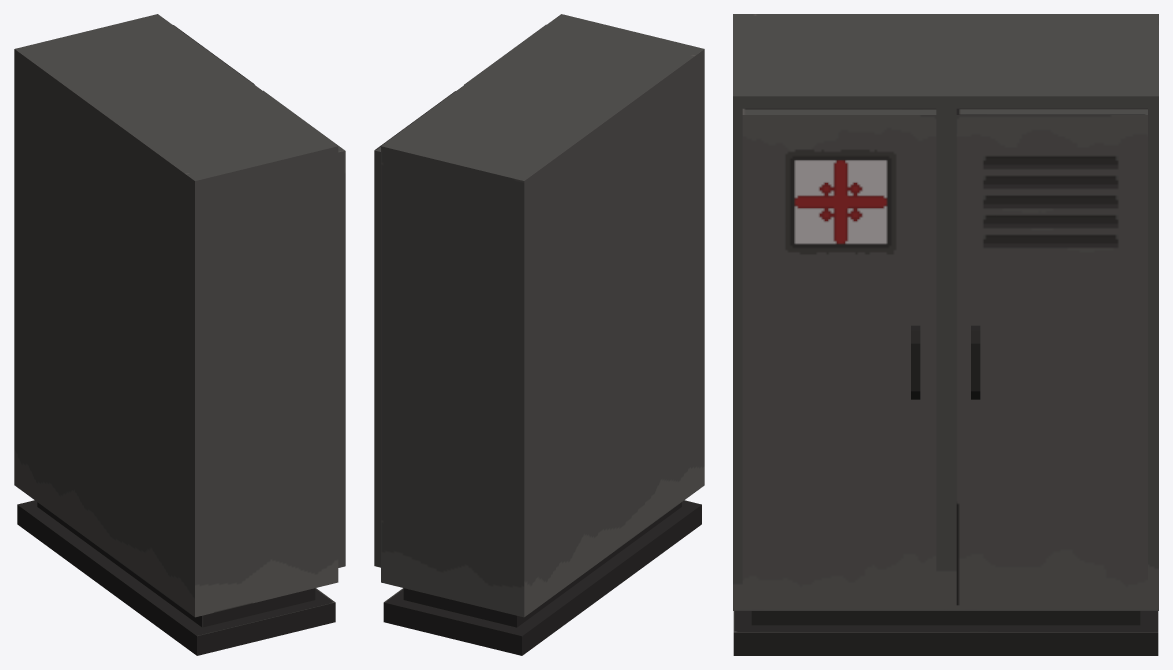
The model's file is hospitalLocker.obj.
The picture shows the model from 3 angles, left to right: view 1: azimuth 30°, elevation 25°; view 2: azimuth 150°, elevation 25°; view 3: azimuth 270°, elevation 25°; orthographic projection. The views are drawn at different scales.
Parts seen in each view (by area): view 1: Cube; view 2: Cube; view 3: Cube, Cube.001, Cube.002.
Part boxes in pixels (x1,y1,x2,y2): Cube: [14, 14, 345, 655]; Cube: [374, 14, 704, 655]; Cube: [733, 14, 1158, 655]; Cube.001: [971, 325, 980, 399]; Cube.002: [911, 325, 920, 399].
Bounding box in the file's own units: 2.34 × 6.34 × 4.36.
3 materials, 3 textured.
